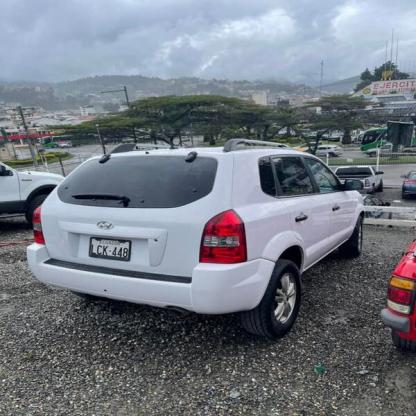Placa: (87, 232, 136, 264)
